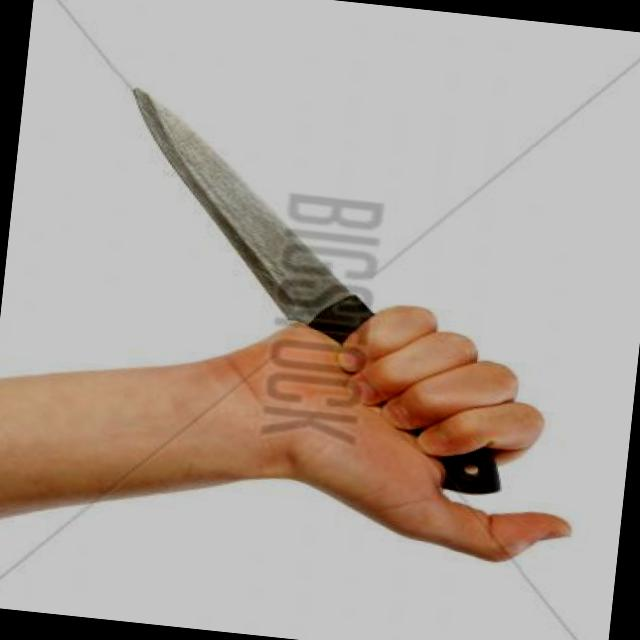knife: (91, 69, 512, 441)
